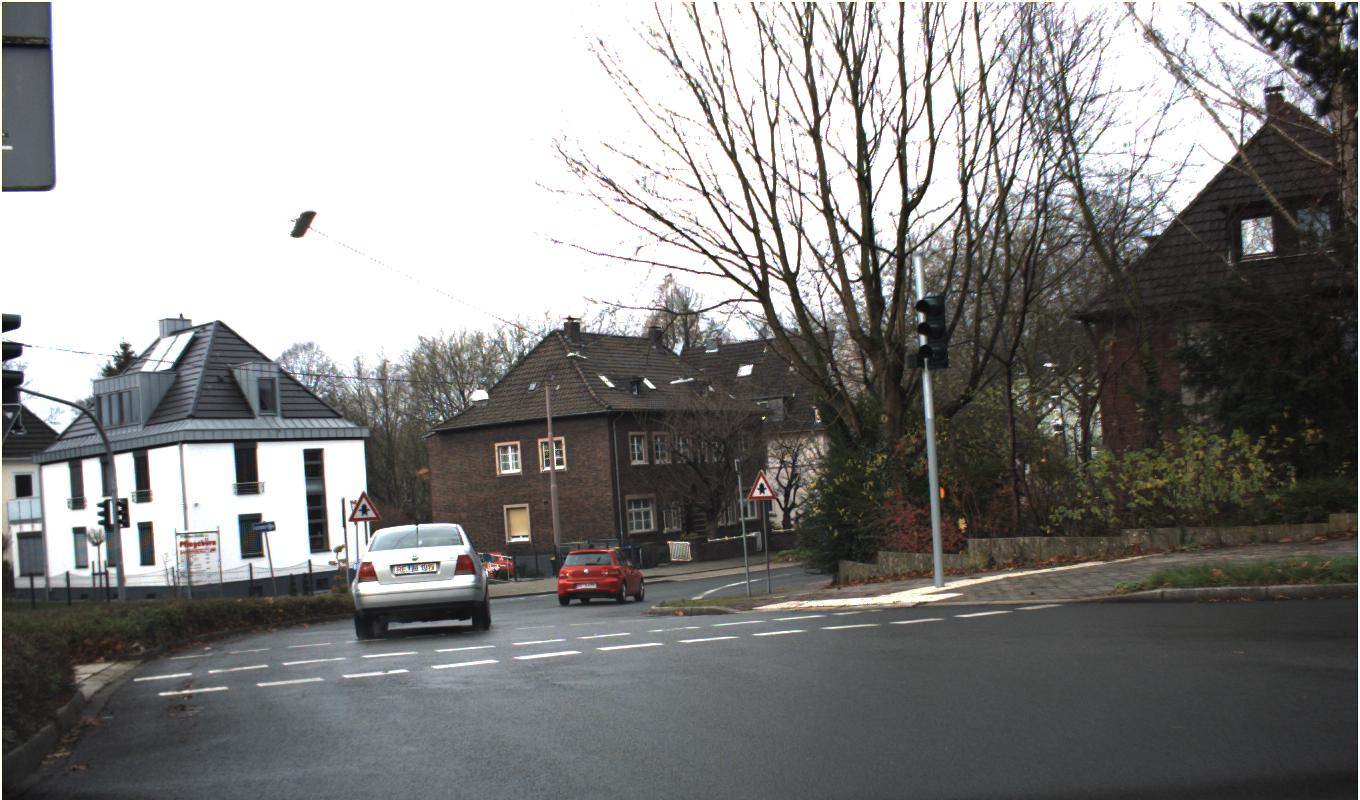danger: (346, 490, 381, 522), (745, 469, 777, 501)
